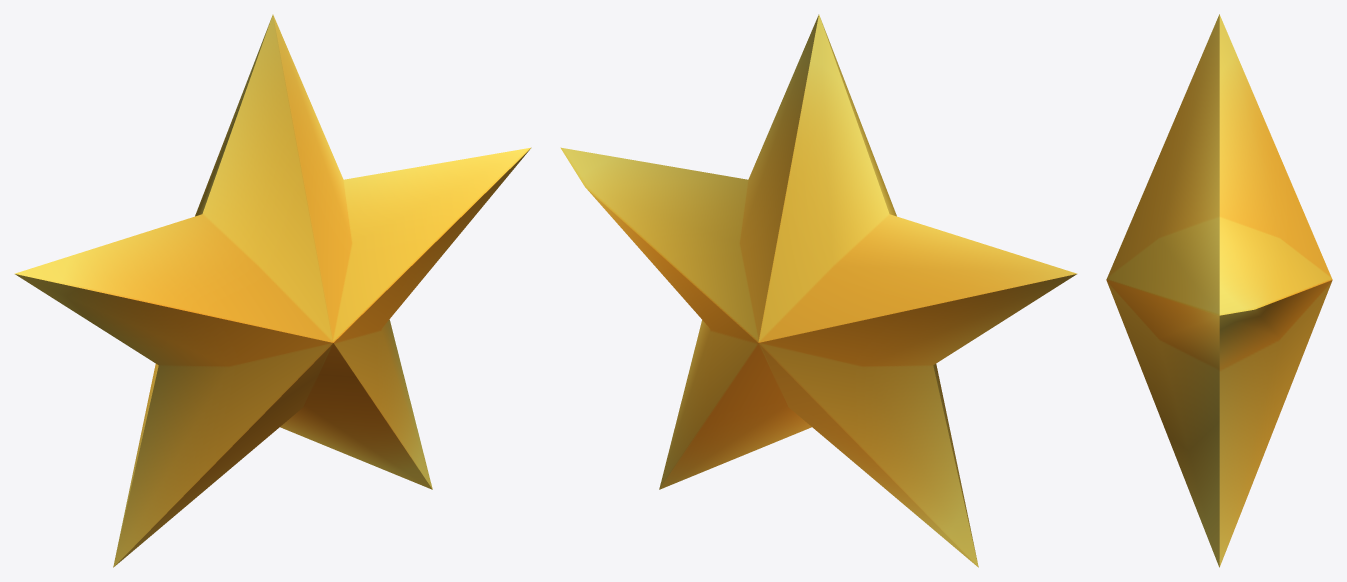
File: star.FBX
3 renders of one model, left to right at view 1: azimuth 30°, elevation 25°; view 2: azimuth 150°, elevation 25°; view 3: azimuth 270°, elevation 25°, orthographic. The views are drawn at different scales.
Parts seen in each view (by area): view 1: star; view 2: star; view 3: star.
Boxes of the visible parts, x1,y1,x2,y2 form: star: (14,14,531,567); star: (560,14,1077,567); star: (1106,14,1332,567).
Size of the model in its own units: 47.94 by 45.6 by 19.45.
